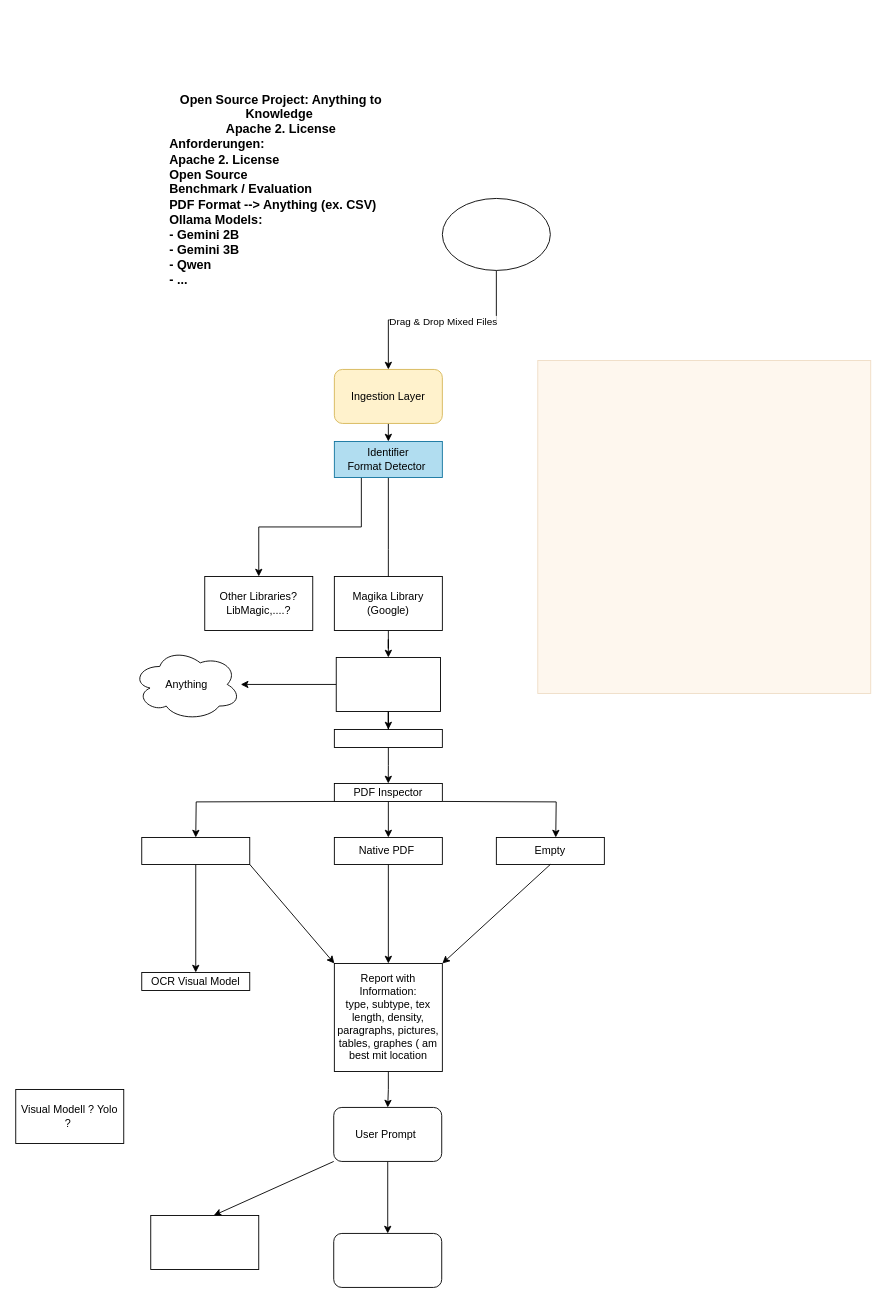
Image size: 887x1303. Some labels were removed from this diagram. The shapes that lost their labels are listed below. From the top down, each one's box as (x1, y1, x2, y2) in pixels, then its label:
(441, 198, 550, 270): User
(335, 657, 440, 711): Output: File Format (PDF, CSV, XML,....
(333, 729, 442, 747): PDF
(141, 837, 250, 864): Scanned PDF
(150, 1215, 259, 1269): General Prompt --> General Pipeline
(333, 1233, 442, 1287): Specific Prompt --> Specific Pipeline
